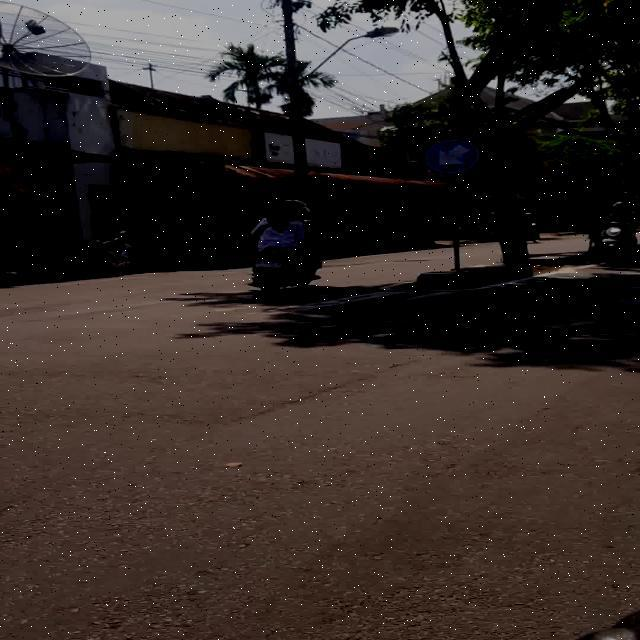Lajur Kiri: (424, 140, 480, 174)
